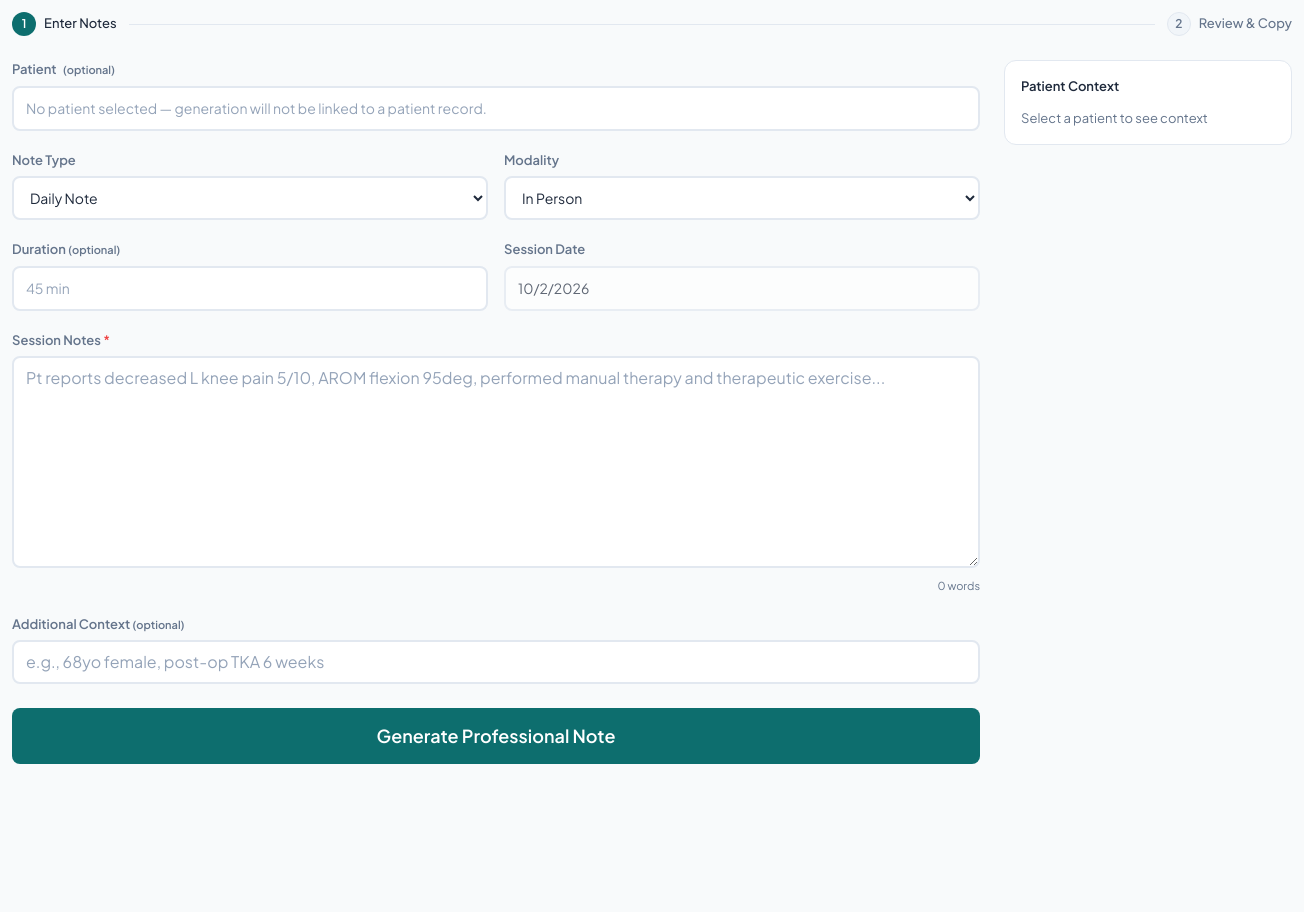
Test: NoteGenerationForm › shows Alert with error message when action returns a known error code
This screenshot has width=1304, height=912.
Type "Some notes" into the text box labelled "Session Notes *".
click(496, 462); type("Some notes")  # box [12,356,980,568]
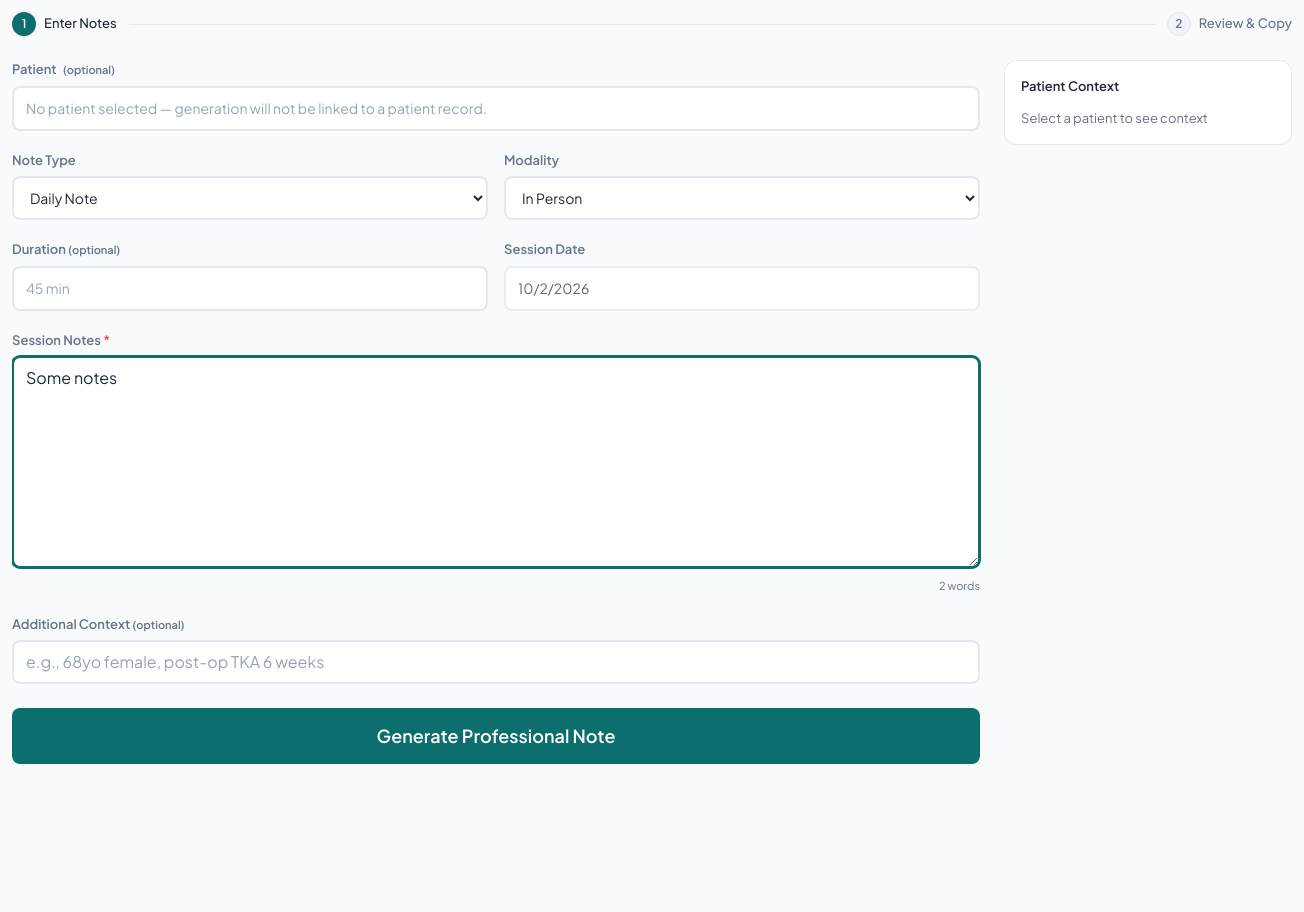
Click the button "Generate Professional Note".
click(496, 736)  # box [12,708,980,764]
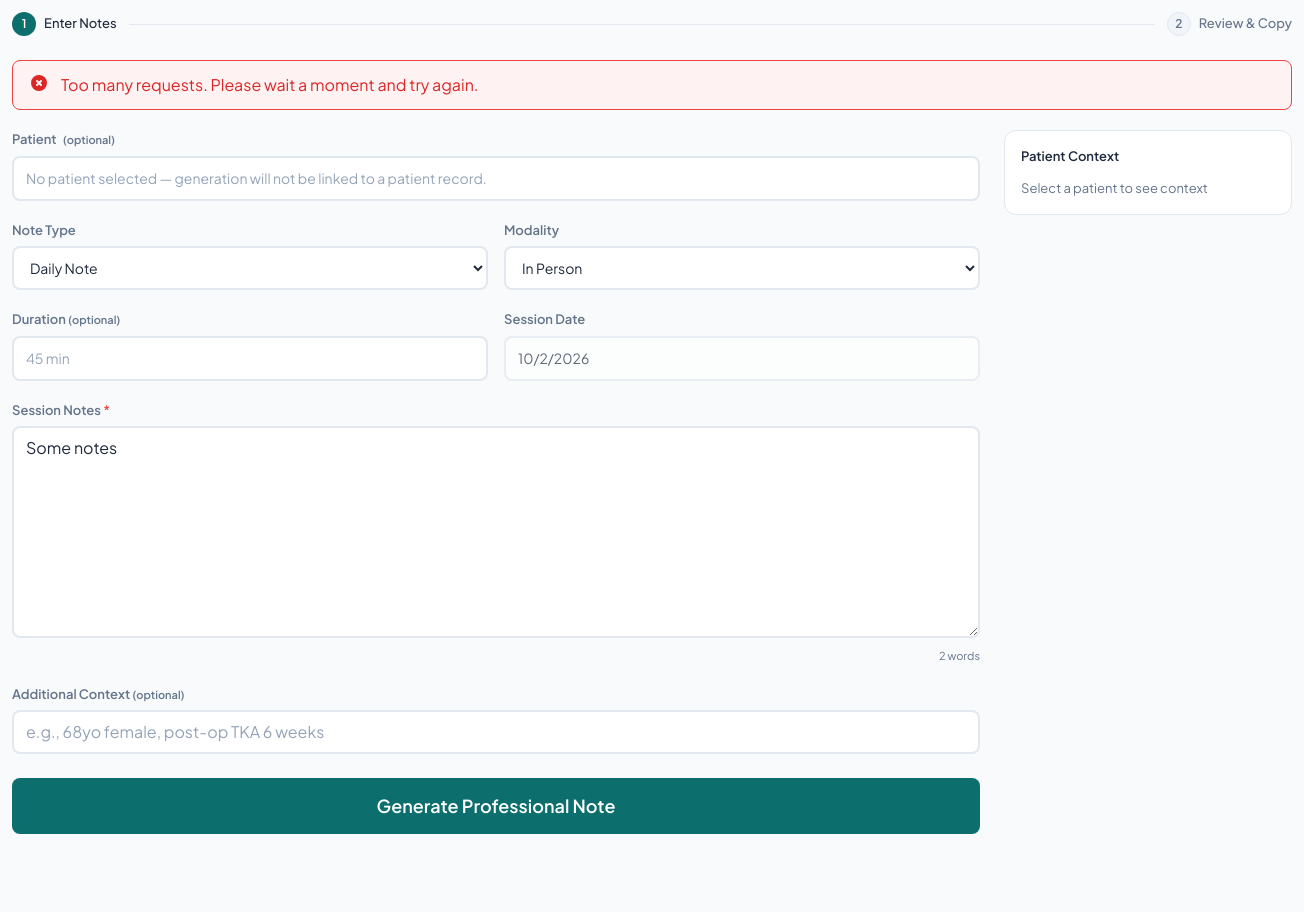
Expected: the message "Too many requests. Please wait a moment and try again." is shown, [12,60,1292,110]
Expected: the message reads "Too many requests. Please wait a moment and try again.", [61,74,478,95]
